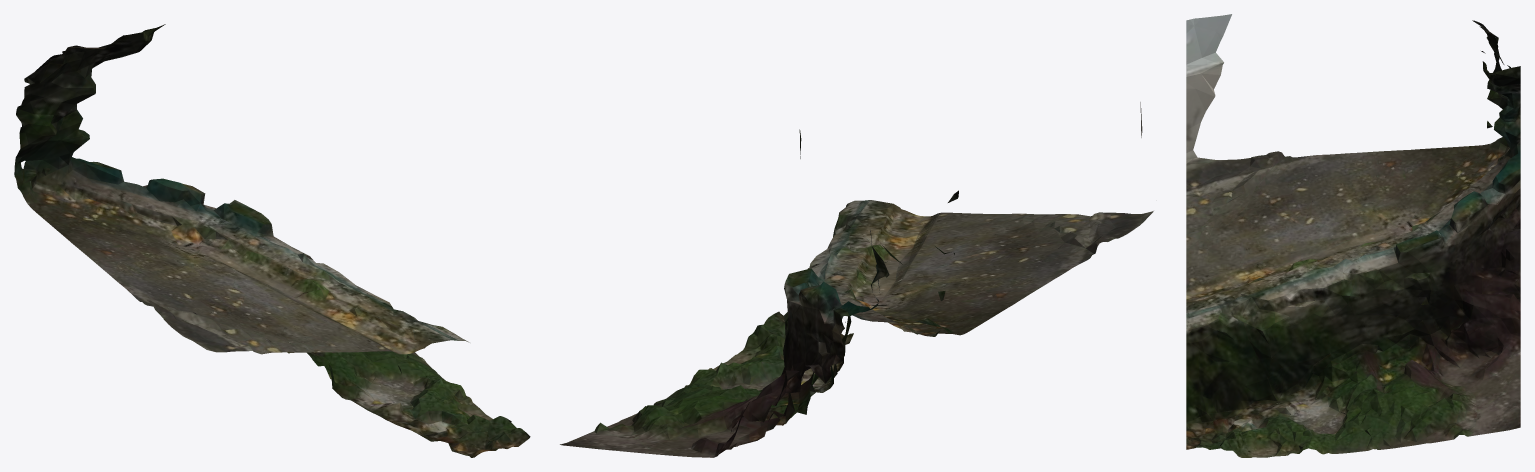
3 views of the same model, side by side, from view 1: azimuth 30°, elevation 25°; view 2: azimuth 150°, elevation 25°; view 3: azimuth 270°, elevation 25° (orthographic). The views are drawn at different scales.
Size of the model in its own units: 3.35 by 3.35 by 3.35.
Materials: 4 (4 with a texture image).
